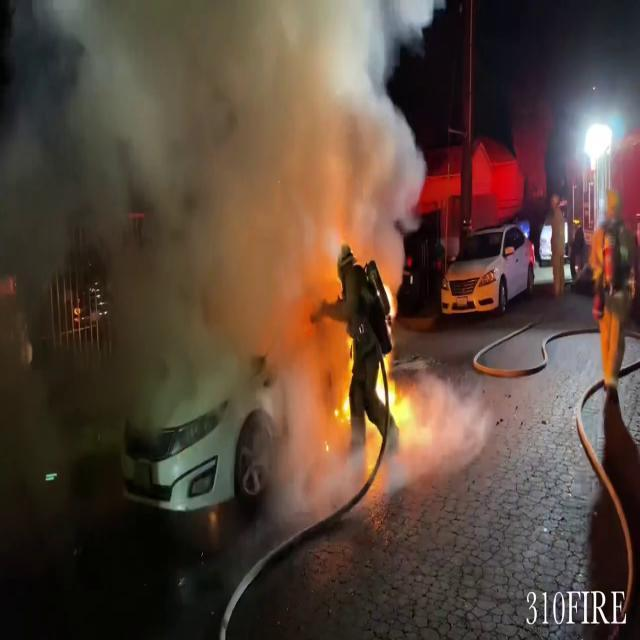Fire: (374, 353, 406, 427), (334, 337, 357, 432)
Smoke: (0, 0, 418, 515)
